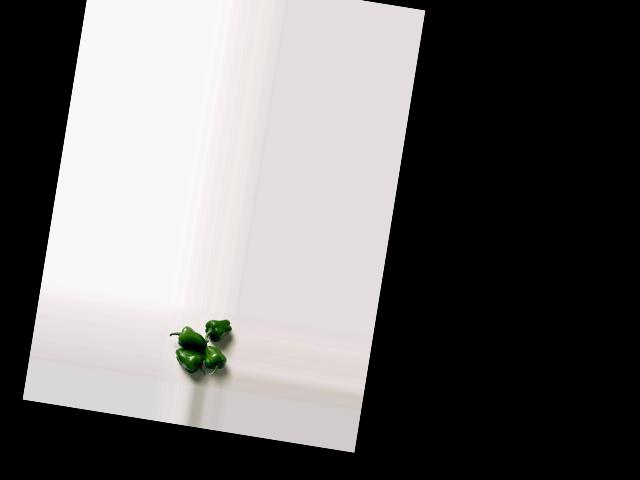bell_pepper: (203, 343, 228, 376)
